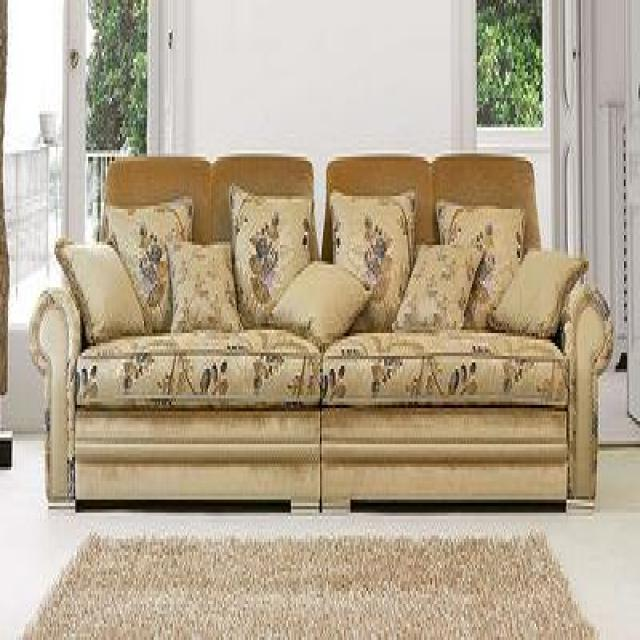sofa: (25, 151, 613, 512)
